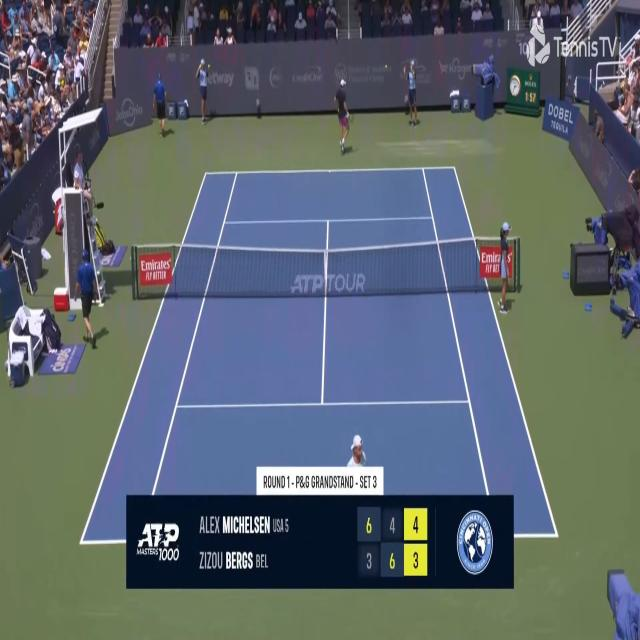tennis-player: (343, 432, 376, 492), (333, 78, 352, 156)
